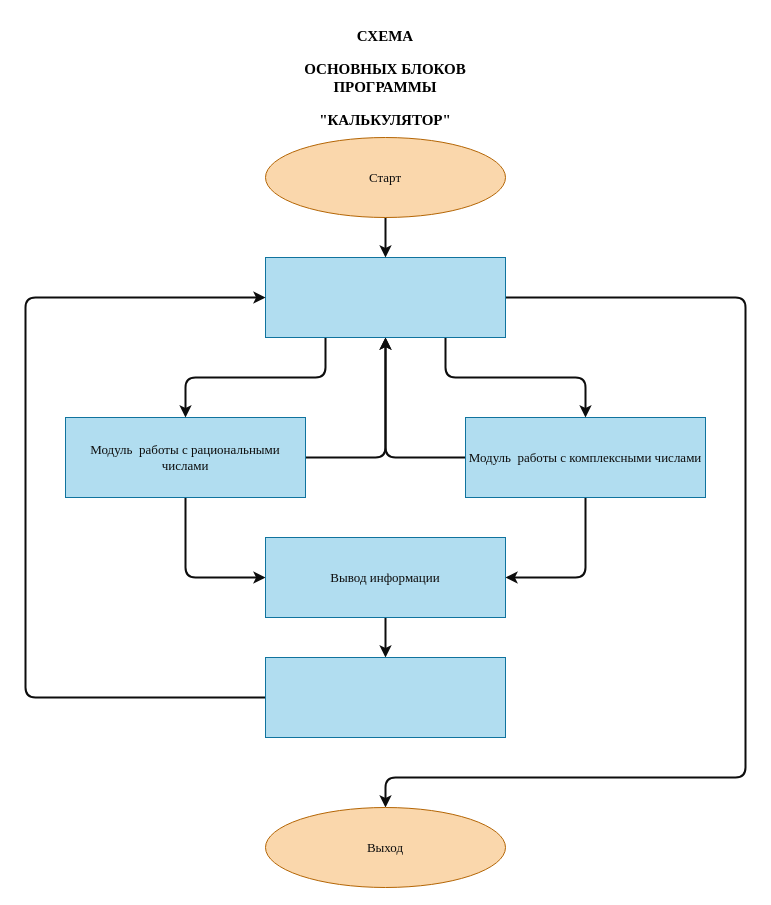
Some shapes in this 771 by 905 pixel diagram are drawn without their labels. The shapes that lost their labels are listed below. From the top down, each one's centre as x and y in pixels, then its label:
At [385,297]: "Меню".
At [385,697]: "Логирование".
